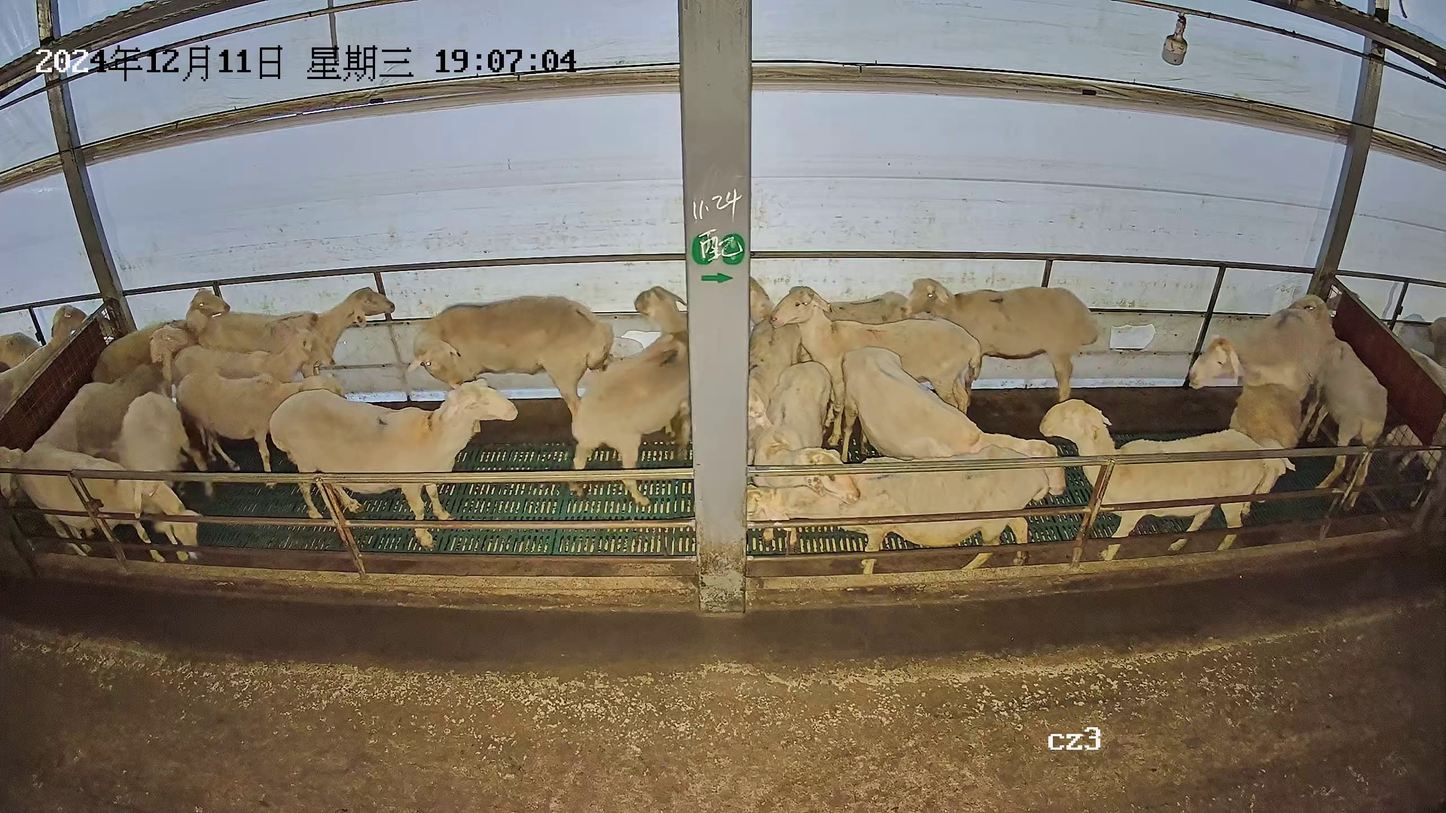Smounting: (1184, 306, 1327, 509)
mounted: (1226, 380, 1308, 505)
